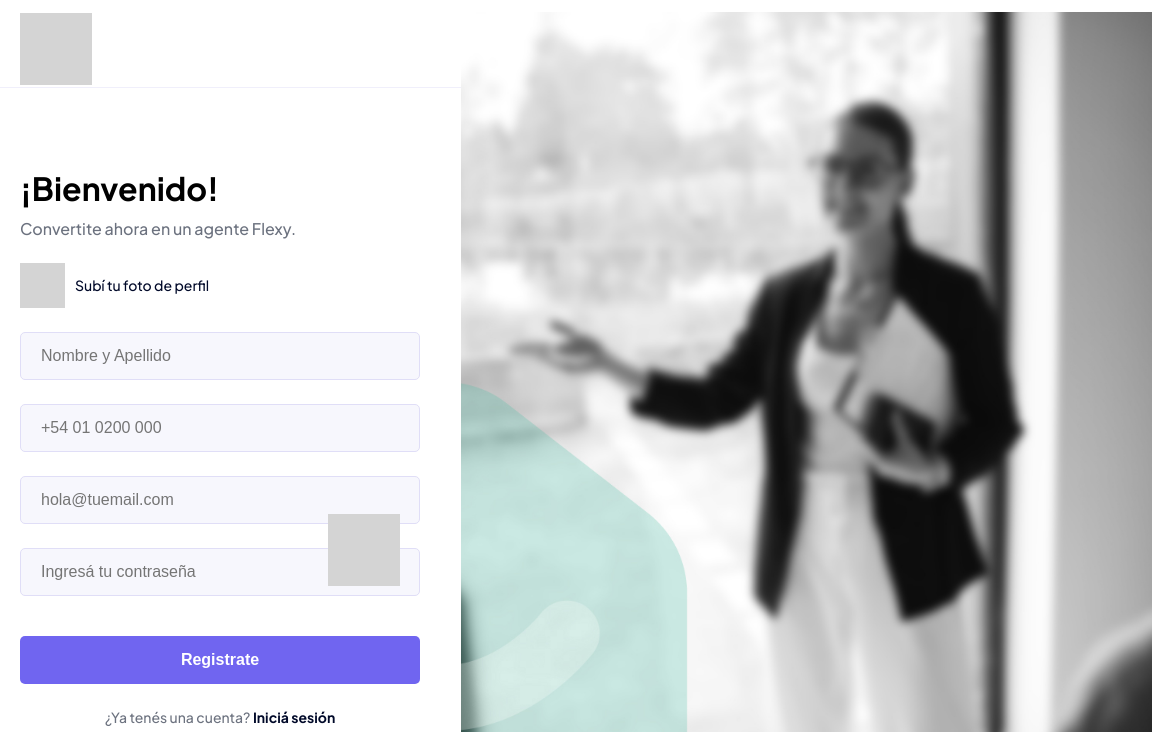
CreateService › should show error when sending empty data
This screenshot has width=1152, height=732.
Expected: the text "requerido" is not shown
Click the button with test id "button". click: (220, 660)
box: left=20, top=636, right=420, bottom=684
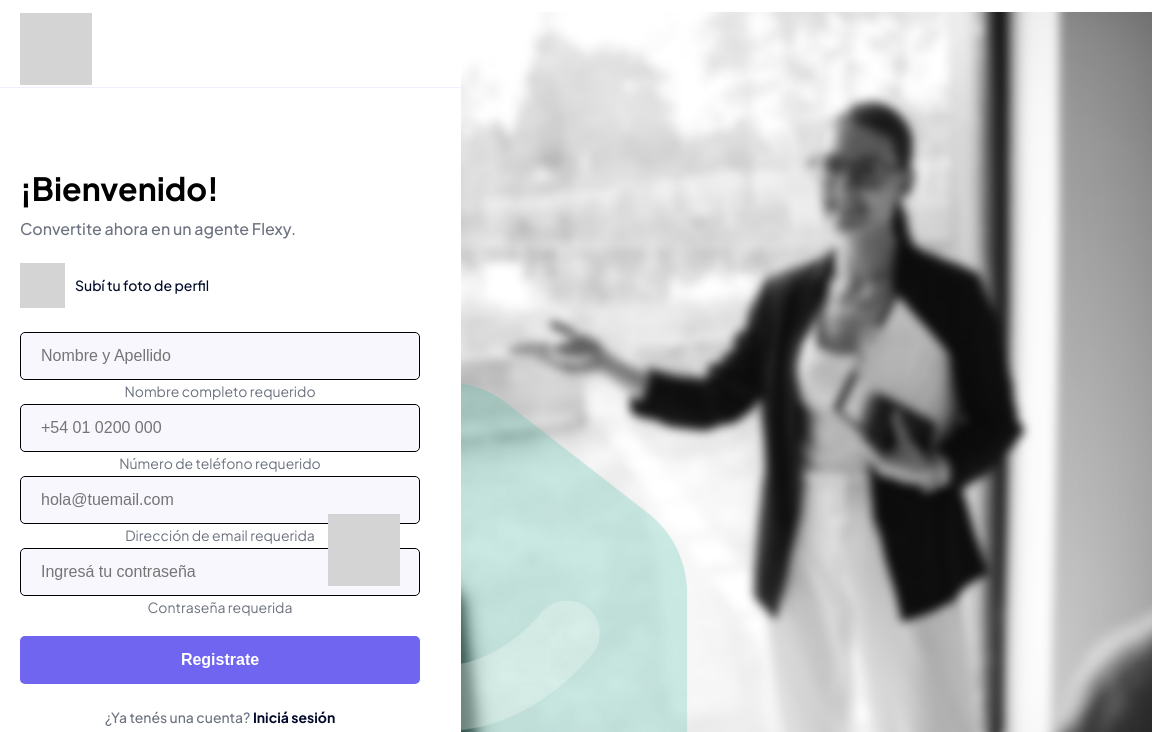
Expected: the text "Nombre completo requerido" is shown, left=124, top=382, right=316, bottom=400
